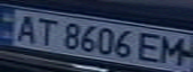0: (93, 26, 118, 56)
6: (115, 28, 139, 61), (78, 24, 100, 54)
8: (57, 20, 84, 52)
A: (9, 11, 42, 44)
E: (136, 30, 166, 64)
M: (157, 34, 193, 66)
T: (30, 16, 60, 47)
